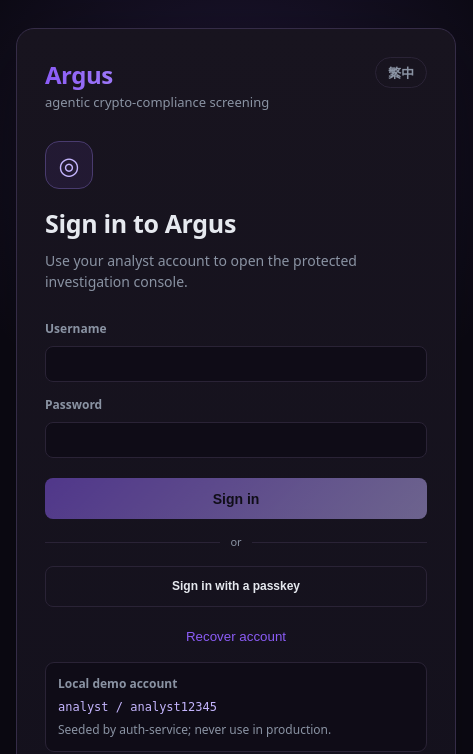
Scenario: protected analyst console › completes offline account recovery without putting the code in the URL
Click the button "Recover account" at (236, 636), box 45,628 -> 427,644
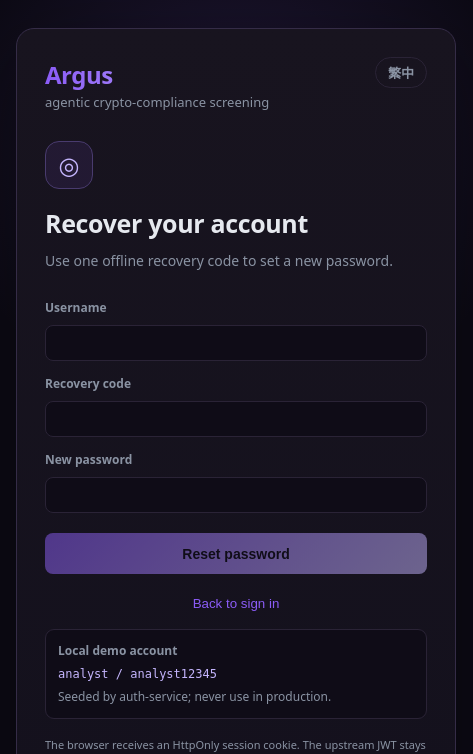
Type "analyst" into the field labelled "Username" at (236, 343), box 45,325 -> 427,361
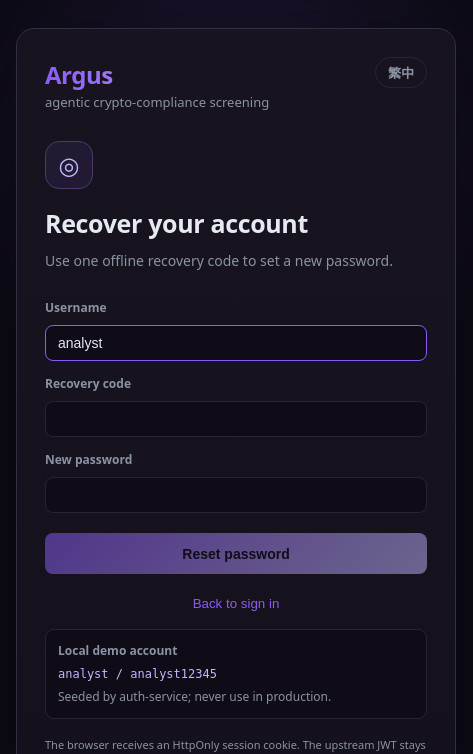
Type "ABCD-EFGH-JKLM-NPQR-STUV-WXYZ" into the field labelled "Recovery code" at (236, 419), box 45,401 -> 427,437
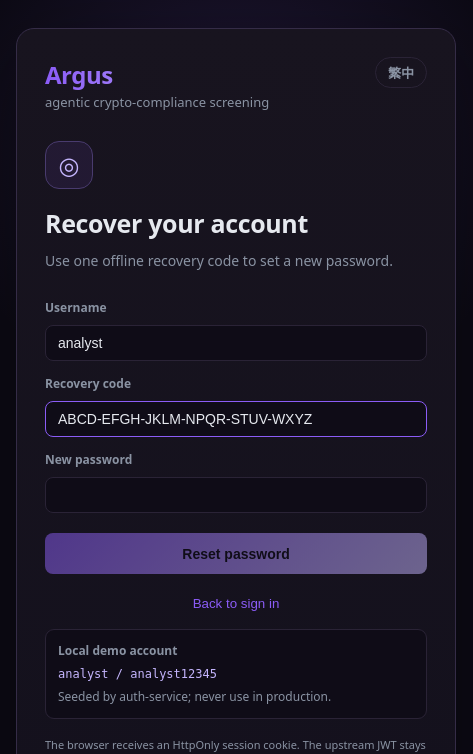
Type "replacement-password" into the password field labelled "New password" at (236, 495), box 45,477 -> 427,513
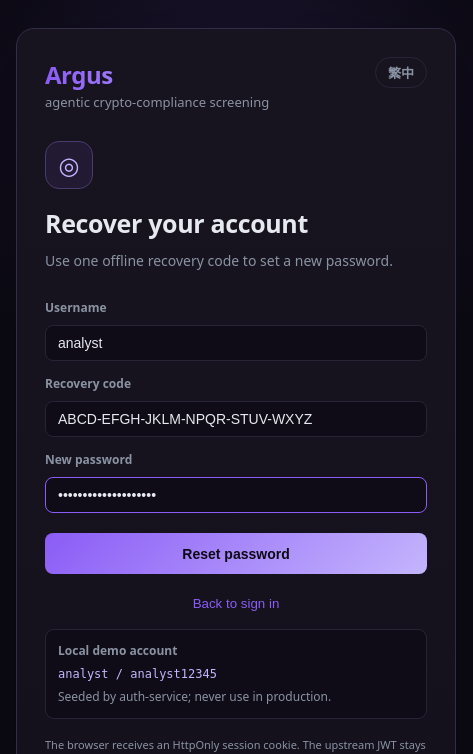
Click the button "Reset password" at (236, 554), box 45,533 -> 427,574
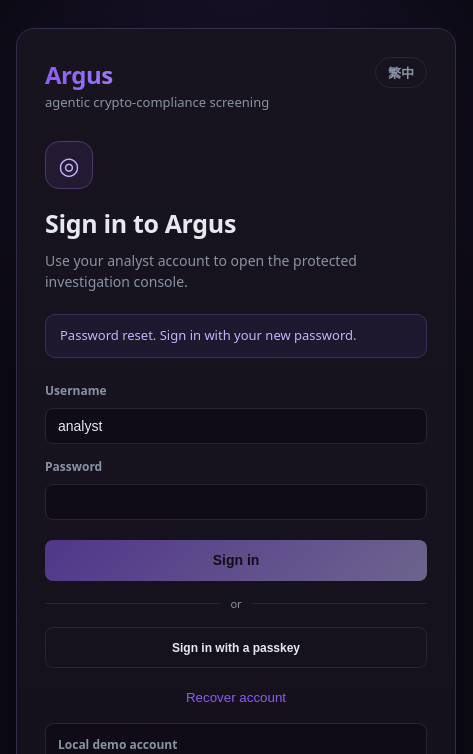
Now the message shows "Password reset", box 60,326 -> 356,344
